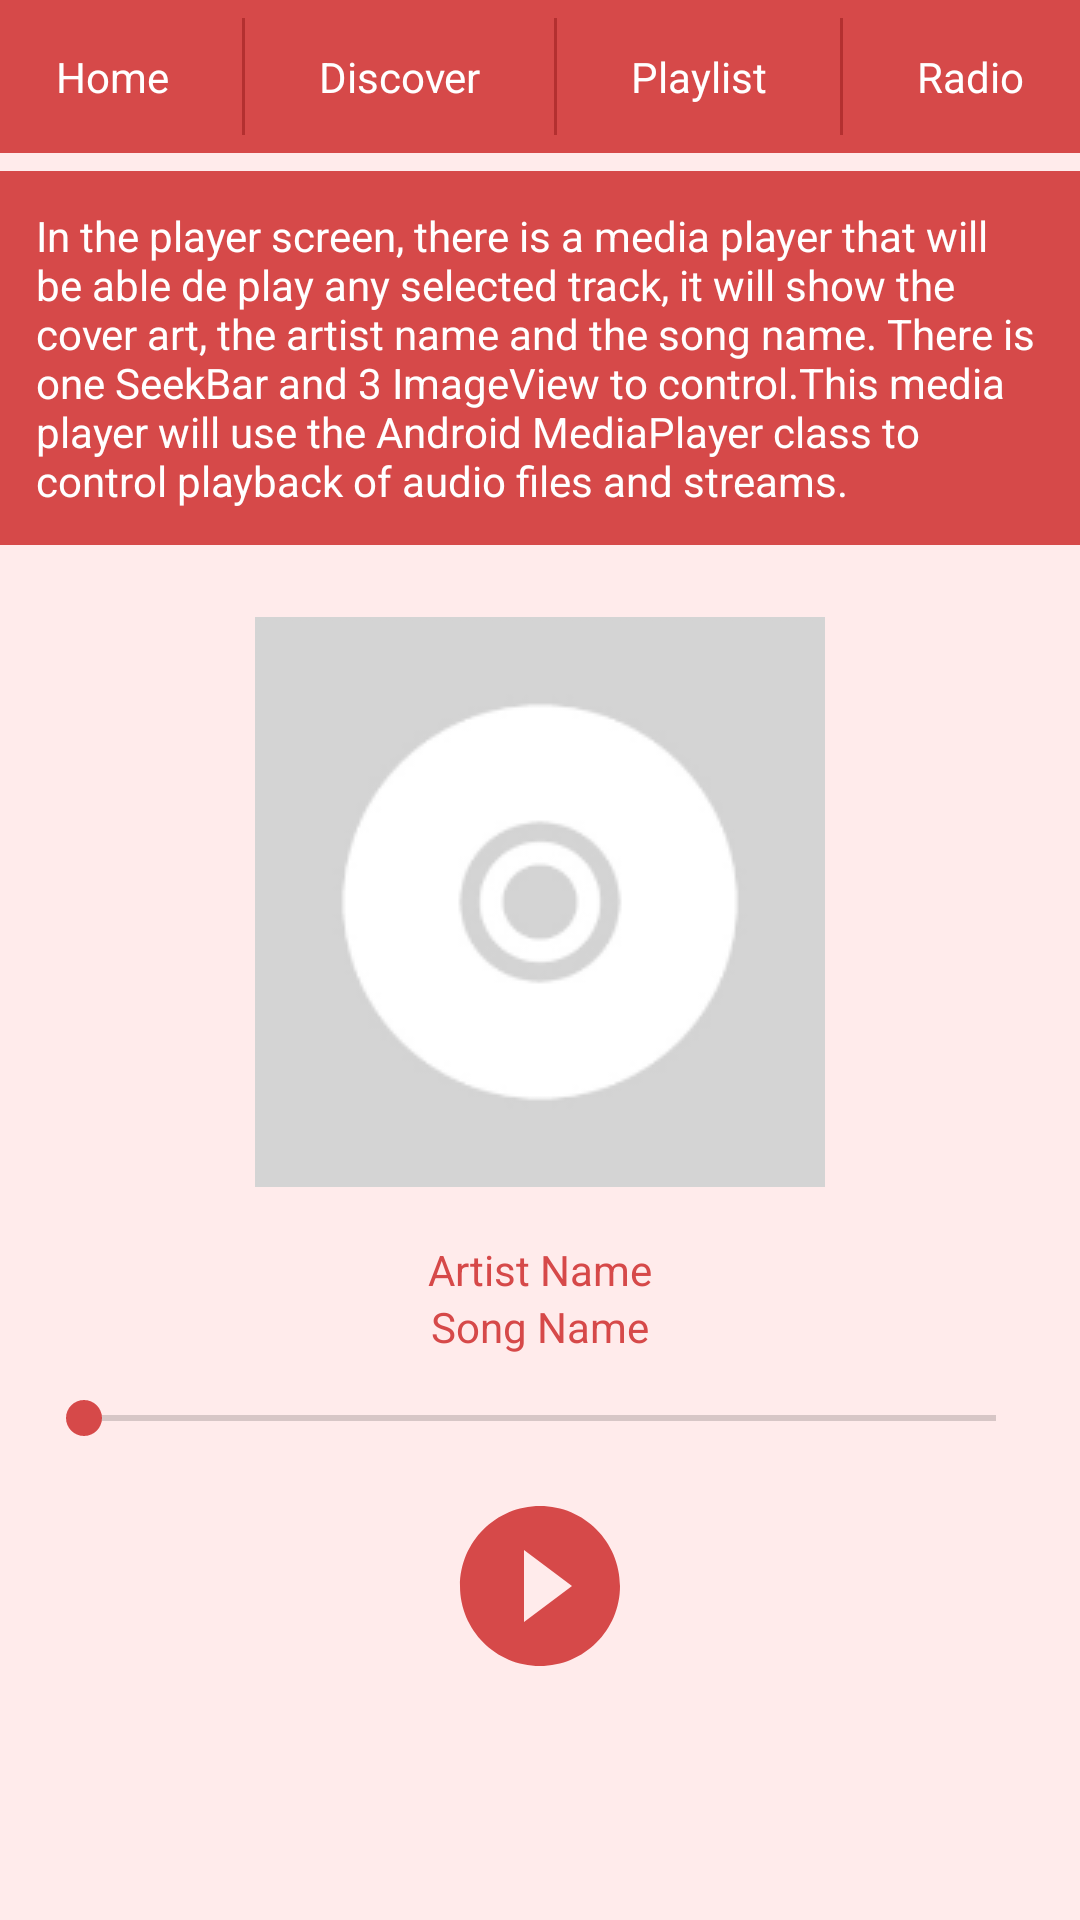

Screen size 1080w x 1920h. Icon name, then its box in pixels as box(x1, y1, x2, y2):
play circle: box(460, 1506, 620, 1666)
